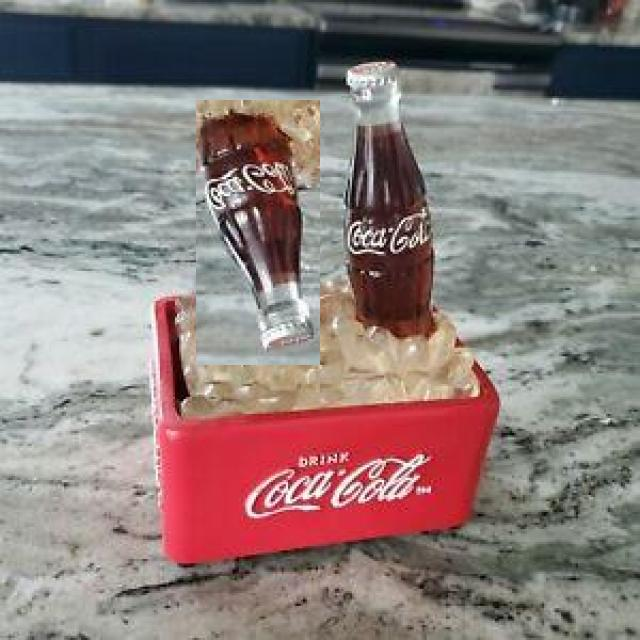coca-cola: (324, 51, 457, 356), (196, 100, 320, 365)
